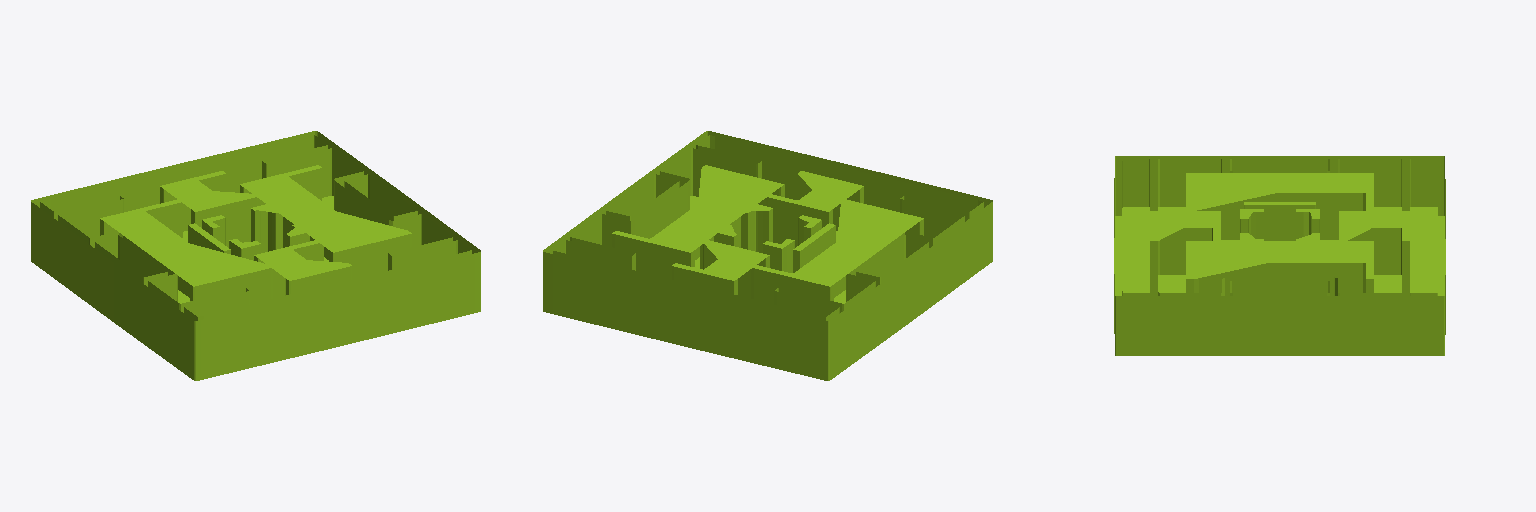
The model's file is labyrinth.obj.
The picture shows the model from 3 angles: view 1: azimuth 30°, elevation 25°; view 2: azimuth 150°, elevation 25°; view 3: azimuth 270°, elevation 25°; orthographic projection.
Visible parts, largest first — view 1: Trace; view 2: Trace; view 3: Trace.
Boxes of the visible parts, x1,y1,x2,y2 form: Trace: [31, 131, 480, 380]; Trace: [543, 131, 992, 380]; Trace: [1114, 156, 1445, 355].
Bounding box in the file's own units: 10.24 × 2.04 × 10.21.